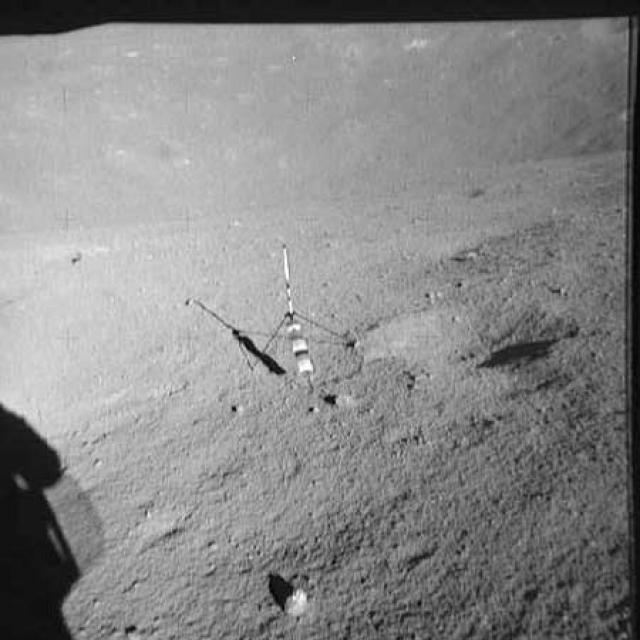crater: (346, 290, 570, 400)
rock: (280, 583, 327, 620), (319, 388, 362, 410)
